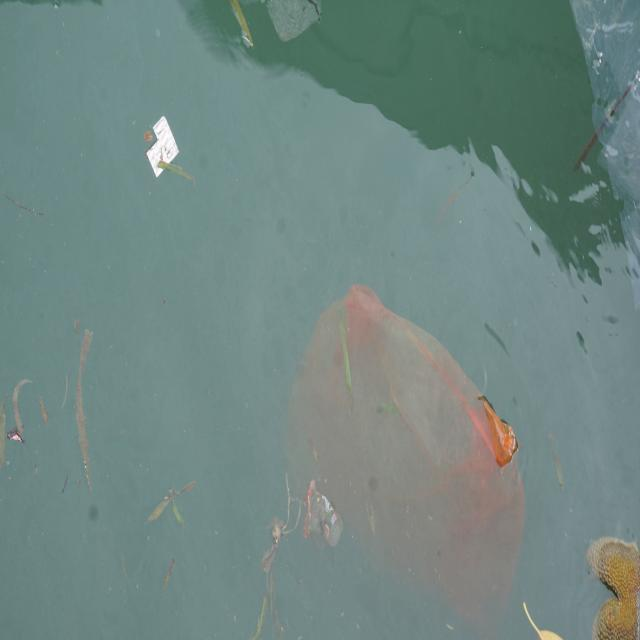Bungkus Makanan: (145, 116, 181, 185)
Kantong Plastik: (289, 279, 529, 635)
